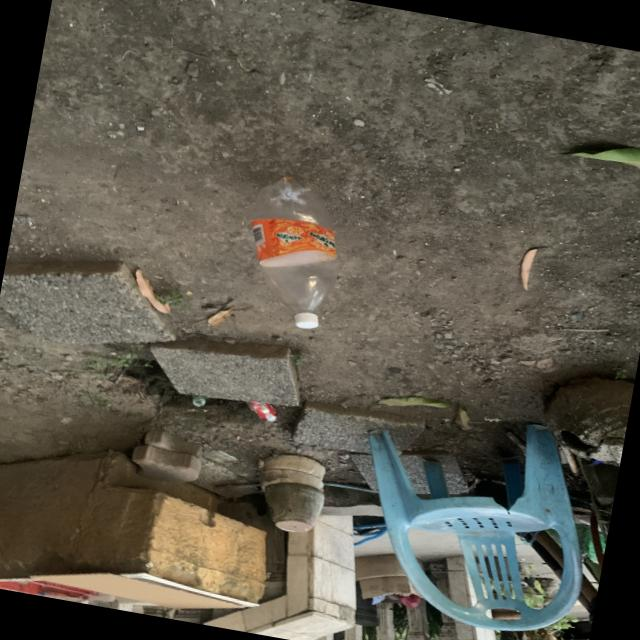Bottle: (251, 176, 338, 328)
